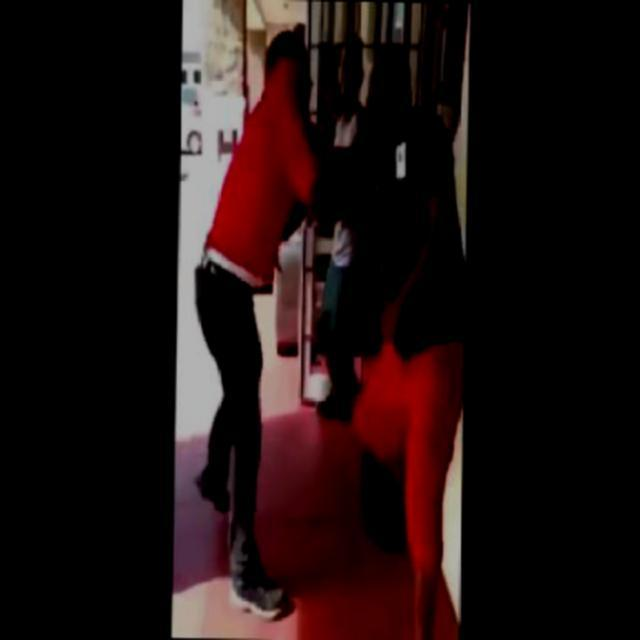fight: (197, 28, 468, 466)
